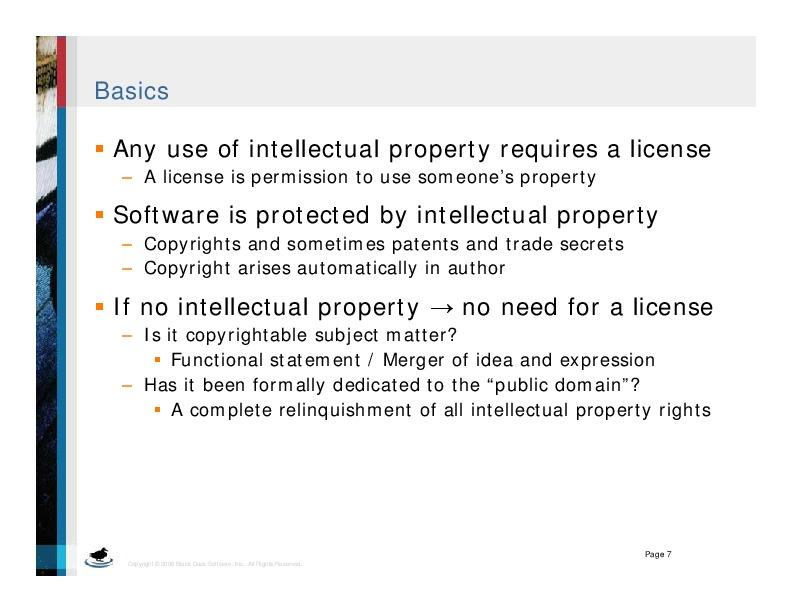paragraph: (113, 124, 761, 470)
title: (84, 68, 184, 107)
